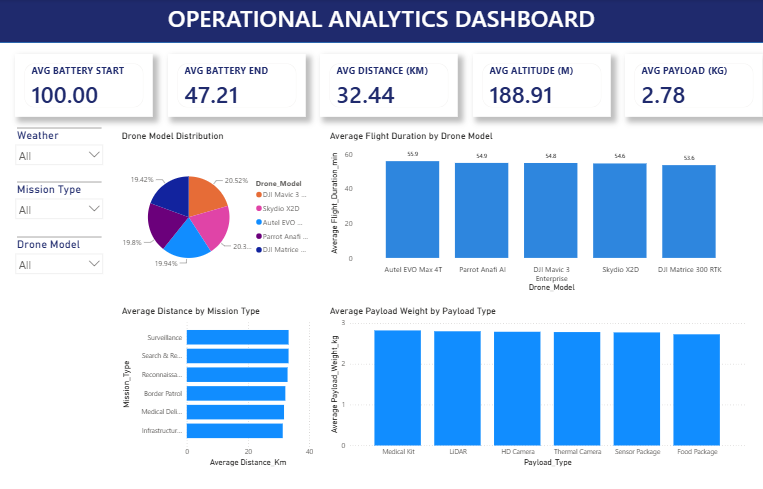

What the dashboard file says about the page in this screenshot:
{"tool":"powerbi","page":{"name":"Operational Analytics","canvas":[1400,900],"ordinal":1},"visuals":[{"type":"pieChart","title":"Drone Model Distribution","fields":{"Category":["Aerial_Shield_Drone_Data.Drone_Model"],"Y":["CountNonNull(Aerial_Shield_Drone_Data.Mission_ID)"]},"box":[220,240,360,300],"z":0},{"type":"clusteredColumnChart","title":"Average Flight Duration by Drone Model","fields":{"Category":["Aerial_Shield_Drone_Data.Drone_Model"],"Y":["Avg(Aerial_Shield_Drone_Data.Flight_Duration_Min)"]},"box":[600,240,770,300],"z":1000},{"type":"clusteredBarChart","title":"Average Distance by Mission Type","fields":{"Category":["Aerial_Shield_Drone_Data.Mission_Type"],"Y":["Avg(Aerial_Shield_Drone_Data.Distance_Km)"]},"box":[220,560,360,300],"z":2000},{"type":"clusteredColumnChart","title":"Average Payload Weight by Payload Type","fields":{"Category":["Aerial_Shield_Drone_Data.Payload_Type"],"Y":["Avg(Aerial_Shield_Drone_Data.Payload_Weight_kg)"]},"box":[600,560,770,300],"z":3000},{"type":"slicer","fields":{"Values":["Aerial_Shield_Drone_Data.Weather"]},"box":[20,230,180,80],"z":4000},{"type":"slicer","fields":{"Values":["Aerial_Shield_Drone_Data.Mission_Type"]},"box":[20,330,180,80],"z":5000},{"type":"slicer","fields":{"Values":["Aerial_Shield_Drone_Data.Drone_Model"]},"box":[20,430,180,80],"z":6000},{"type":"shape","box":[0,0,1400,80],"z":7000},{"type":"textbox","box":[0,0,1399.4,80.5],"z":8000},{"type":"cardVisual","fields":{"Data":["Avg(Aerial_Shield_Drone_Data.Battery_Start)"]},"box":[30,100,252,115],"z":9000},{"type":"cardVisual","fields":{"Data":["Avg(Aerial_Shield_Drone_Data.Battery_End)"]},"box":[308.8,100,252,115],"z":10000},{"type":"cardVisual","fields":{"Data":["Avg(Aerial_Shield_Drone_Data.Distance_Km)"]},"box":[587.5,100,252,115],"z":11000},{"type":"cardVisual","fields":{"Data":["Avg(Aerial_Shield_Drone_Data.Altitude_m)"]},"box":[866.2,100,252,115],"z":12000},{"type":"cardVisual","fields":{"Data":["Avg(Aerial_Shield_Drone_Data.Payload_Weight_kg)"]},"box":[1145,100,252,115],"z":13000}]}

Visuals, with their boxes in screenshot pixels (x1, y1, x2, y2), scaled from the page's 1400x900 canvas onto the 763x489 screenshot:
"Drone Model Distribution" pieChart: region(120, 130, 316, 293)
"Average Flight Duration by Drone Model" clusteredColumnChart: region(327, 130, 747, 293)
"Average Distance by Mission Type" clusteredBarChart: region(120, 304, 316, 467)
"Average Payload Weight by Payload Type" clusteredColumnChart: region(327, 304, 747, 467)
slicer - Aerial_Shield_Drone_Data.Weather: region(11, 125, 109, 168)
slicer - Aerial_Shield_Drone_Data.Mission_Type: region(11, 179, 109, 223)
slicer - Aerial_Shield_Drone_Data.Drone_Model: region(11, 234, 109, 277)
shape: region(0, 0, 762, 43)
textbox: region(0, 0, 762, 44)
cardVisual - Avg(Aerial_Shield_Drone_Data.Battery_Start): region(16, 54, 154, 117)
cardVisual - Avg(Aerial_Shield_Drone_Data.Battery_End): region(168, 54, 306, 117)
cardVisual - Avg(Aerial_Shield_Drone_Data.Distance_Km): region(320, 54, 458, 117)
cardVisual - Avg(Aerial_Shield_Drone_Data.Altitude_m): region(472, 54, 609, 117)
cardVisual - Avg(Aerial_Shield_Drone_Data.Payload_Weight_kg): region(624, 54, 761, 117)
